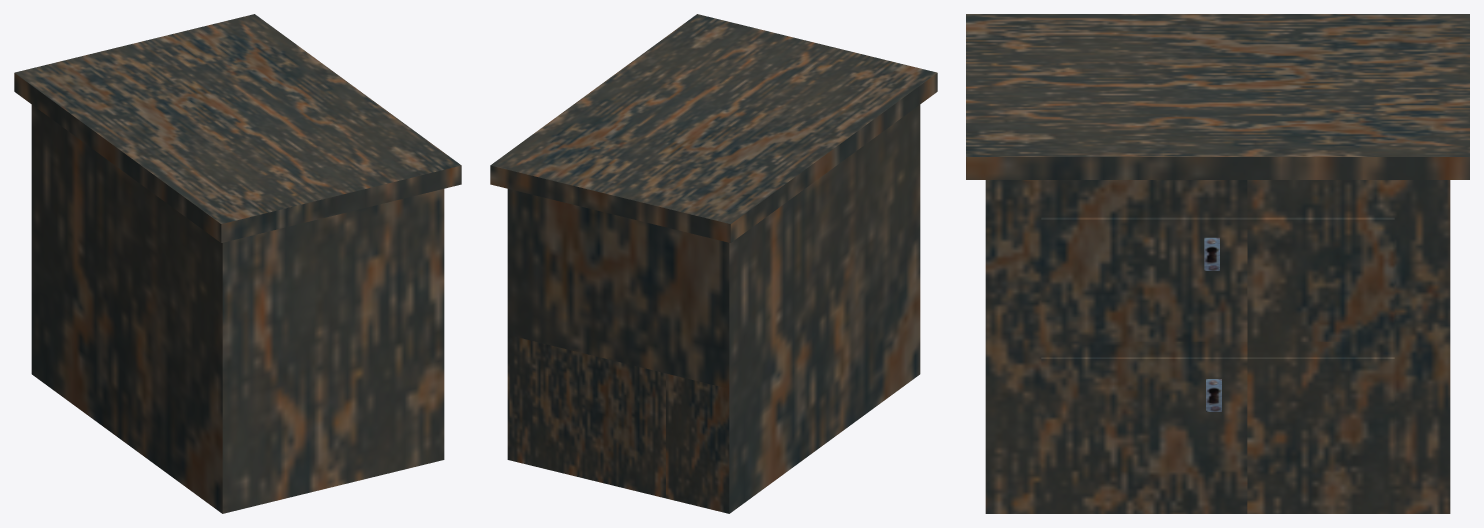
The model's file is woodtable.obj.
3 views of the same model, side by side, from view 1: azimuth 30°, elevation 25°; view 2: azimuth 150°, elevation 25°; view 3: azimuth 270°, elevation 25° (orthographic). The views are drawn at different scales.
Parts seen in each view (by area): view 1: 立方体; view 2: 立方体; view 3: 立方体.
Boxes of the visible parts, x1,y1,x2,y2 form: 立方体: (14,14,461,513); 立方体: (490,14,937,513); 立方体: (966,14,1469,513).
Size of the model in its own units: 0.8211 by 0.9719 by 1.22.
Materials: 1 (1 with a texture image).
